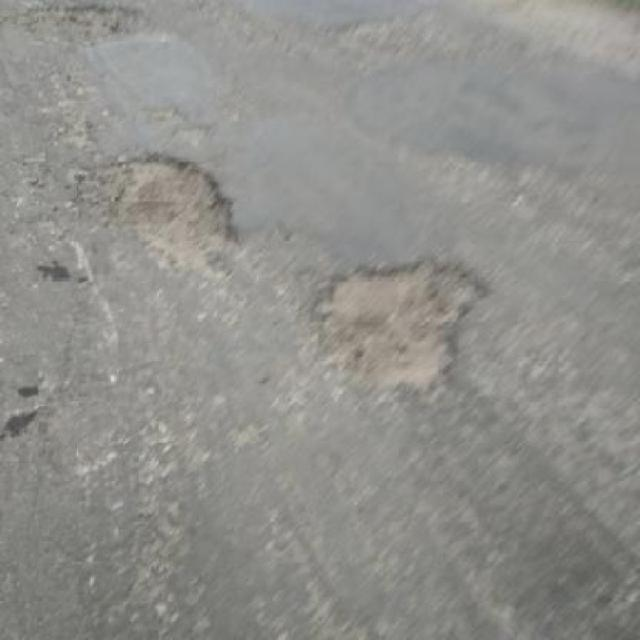pothole: (304, 250, 499, 398), (88, 149, 245, 283), (14, 0, 151, 42)
